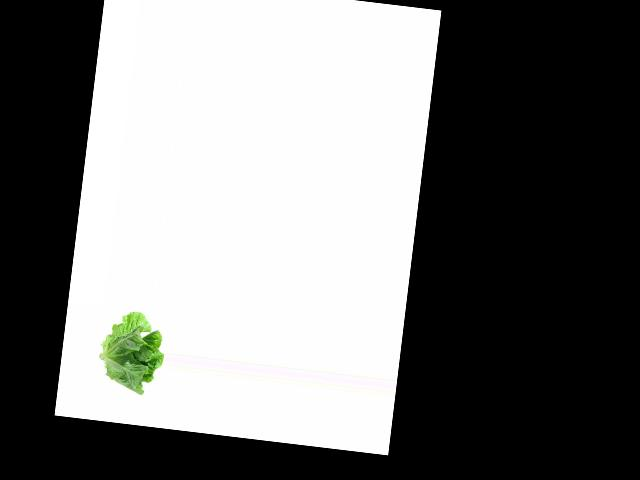lettuce: (98, 309, 168, 398)
